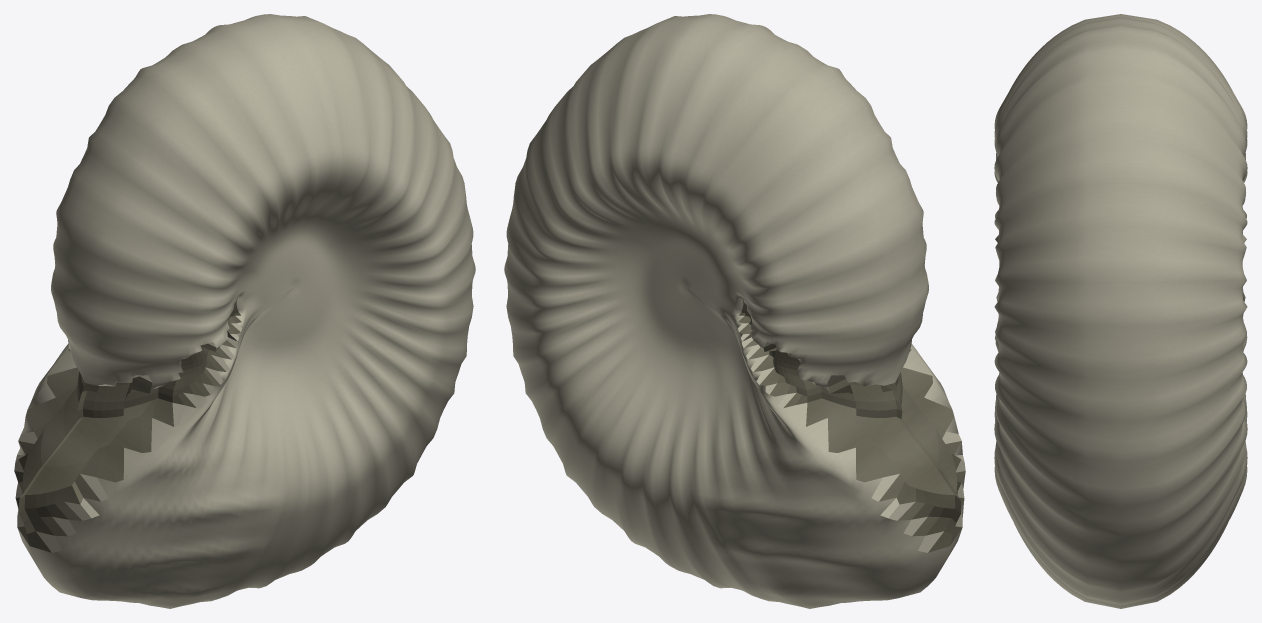
The picture shows the model from 3 angles, left to right: view 1: azimuth 30°, elevation 25°; view 2: azimuth 150°, elevation 25°; view 3: azimuth 270°, elevation 25°; orthographic projection. The views are drawn at different scales.
Parts seen in each view (by area): view 1: Scaphites Smithsonian55436 fossil study; view 2: Scaphites Smithsonian55436 fossil study; view 3: Scaphites Smithsonian55436 fossil study.
Boxes of the visible parts, x1,y1,x2,y2 form: Scaphites Smithsonian55436 fossil study: (14, 14, 475, 608); Scaphites Smithsonian55436 fossil study: (504, 14, 965, 608); Scaphites Smithsonian55436 fossil study: (994, 14, 1247, 608).
Size of the model in its own units: 0.835 by 1 by 0.403.
Materials: 2 (2 with a texture image).
